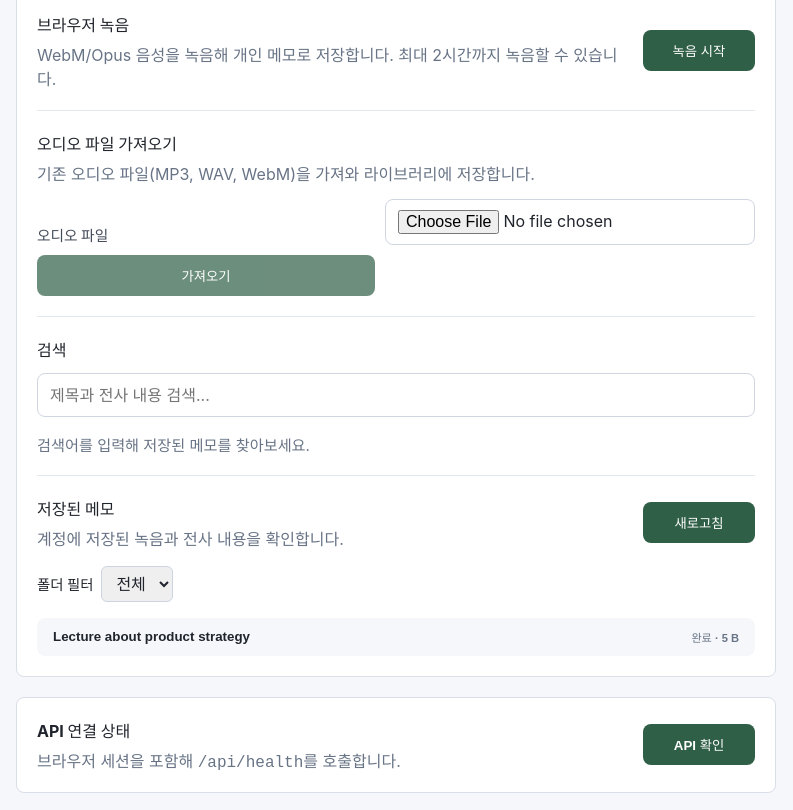
Test: App transcription polling › generates and renders a draft note for a completed transcript
This screenshot has width=793, height=810.
(page scrolled)
Click the button "Lecture about product strategy 완료 · 5 B" at (152, 637), box left=37, top=618, right=755, bottom=656
(page scrolled)
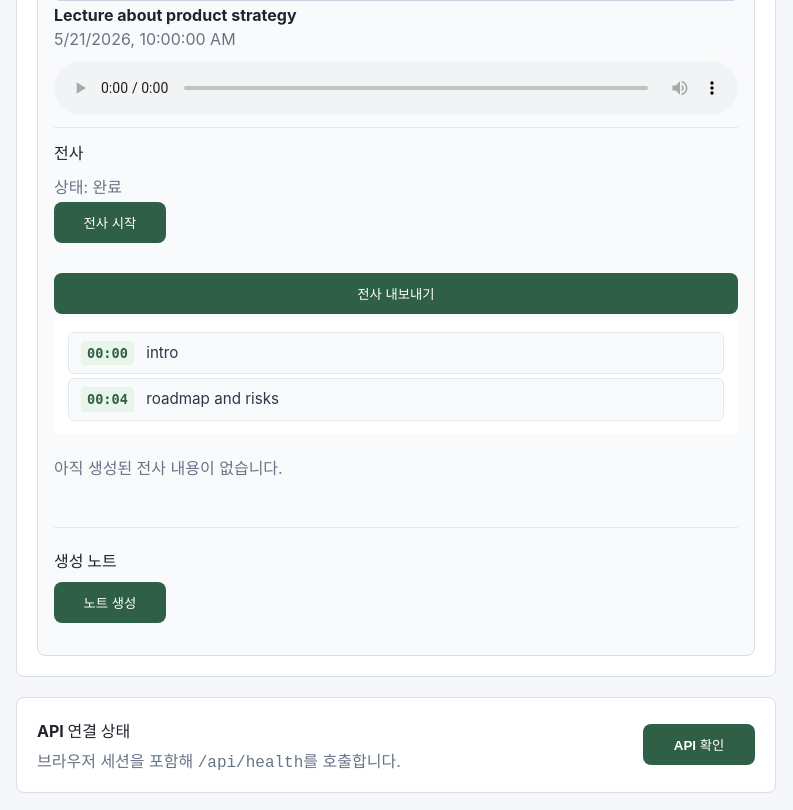
Click the button "노트 생성" at (110, 602), box left=54, top=582, right=166, bottom=623
(page scrolled)
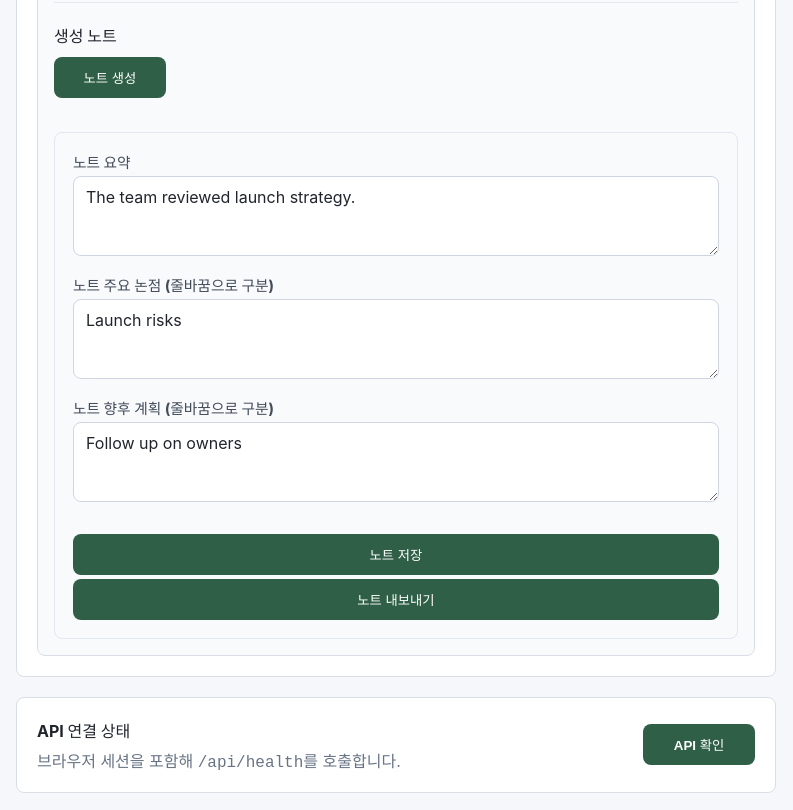
Check: the text box "The team reviewed launch strategy." is shown, box left=73, top=176, right=719, bottom=256
Check: the text box "Launch risks" is shown, box left=73, top=299, right=719, bottom=379
Check: the text box "Follow up on owners" is shown, box left=73, top=422, right=719, bottom=502
